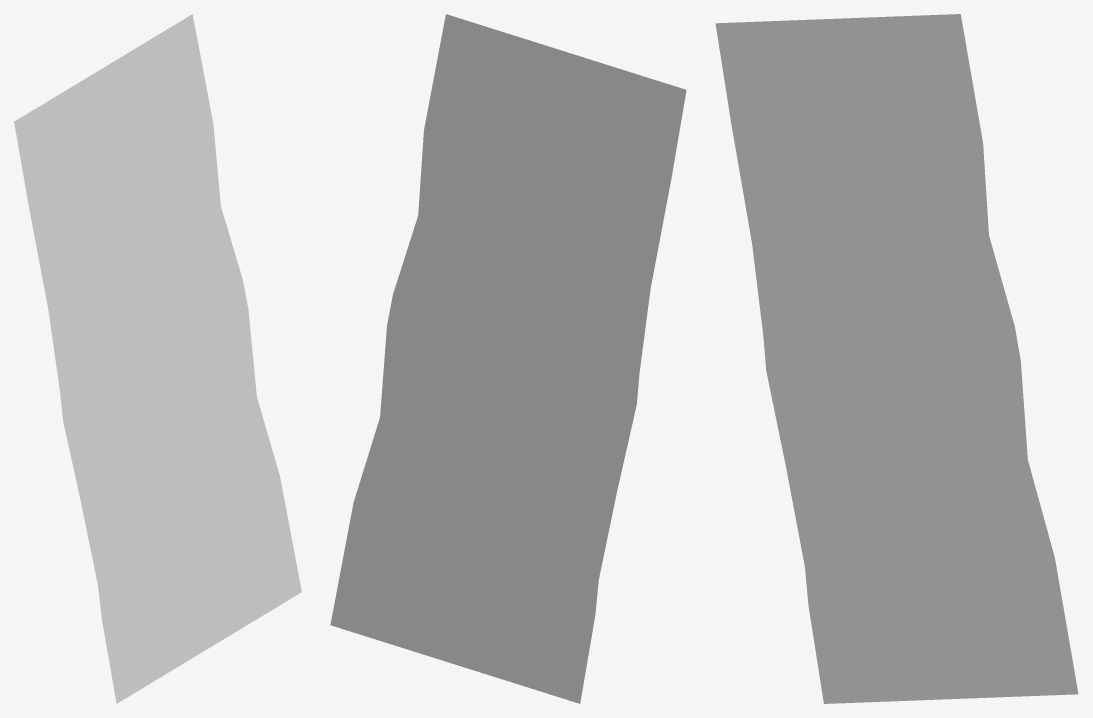
Rendered from isi_banner.obj.
3 views of the same model, side by side, from view 1: azimuth 30°, elevation 25°; view 2: azimuth 150°, elevation 25°; view 3: azimuth 330°, elevation 25° (orthographic). The views are drawn at different scales.
Visible parts, largest first — view 1: StallMesh; view 2: StallMesh; view 3: StallMesh.
Part boxes in pixels (bbox=[...]): StallMesh: bbox=[14, 14, 301, 703]; StallMesh: bbox=[330, 14, 686, 703]; StallMesh: bbox=[715, 14, 1078, 703].
Size of the model in its own units: 0.053 by 0.1048 by 0.00749.
